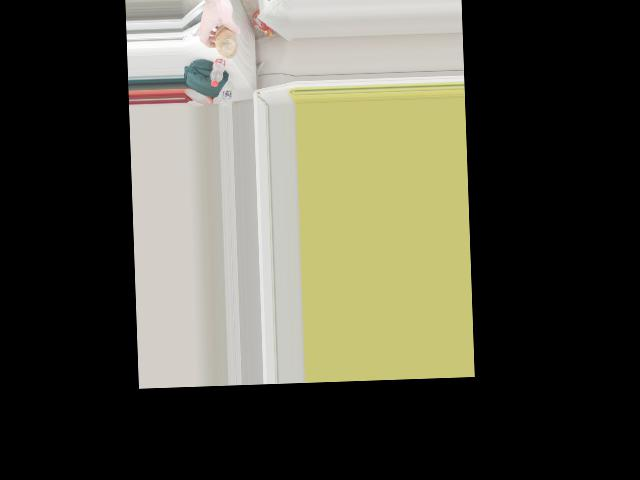sweet_potato: (212, 21, 241, 60)
